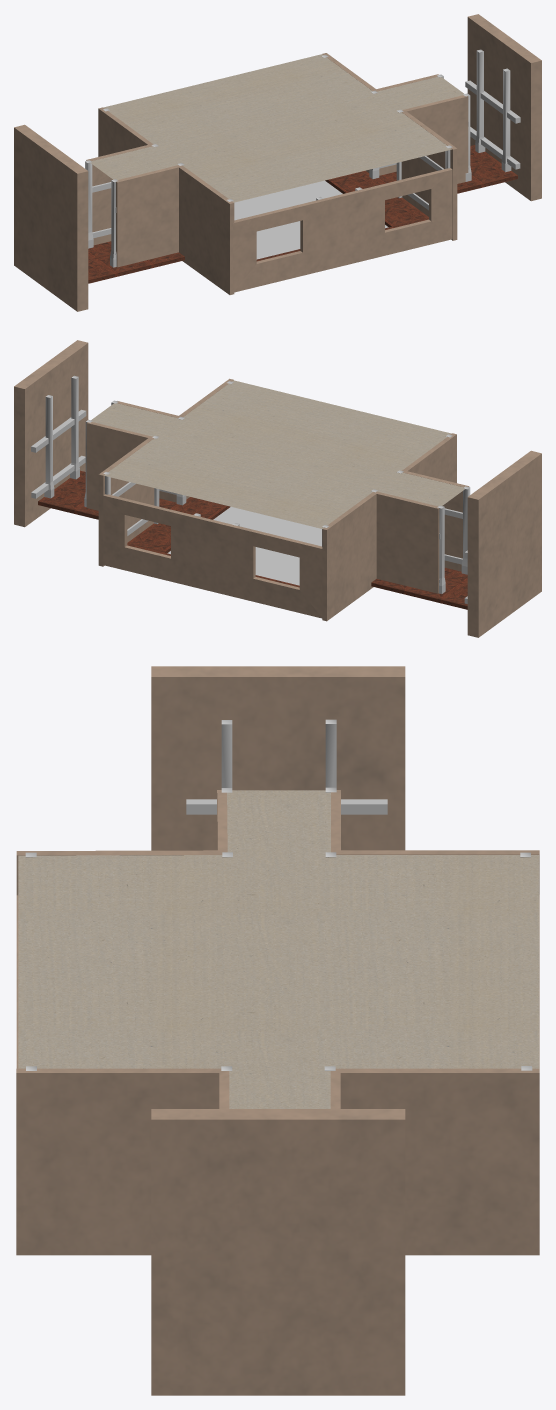
Rendered from RoomBuild_V4.fbx.
3 renders of one model, top to bottom at view 1: azimuth 30°, elevation 25°; view 2: azimuth 150°, elevation 25°; view 3: azimuth 270°, elevation 25°, orthographic. The views are drawn at different scales.
Visible parts, largest first — view 1: RoomBuild_V2; view 2: RoomBuild_V2; view 3: RoomBuild_V2.
Part boxes in pixels (x1,y1,x2,y2): RoomBuild_V2: (14,14,541,311); RoomBuild_V2: (14,340,541,637); RoomBuild_V2: (16,666,539,1395).
Bounding box in the file's own units: 2112 × 600 × 1031.
